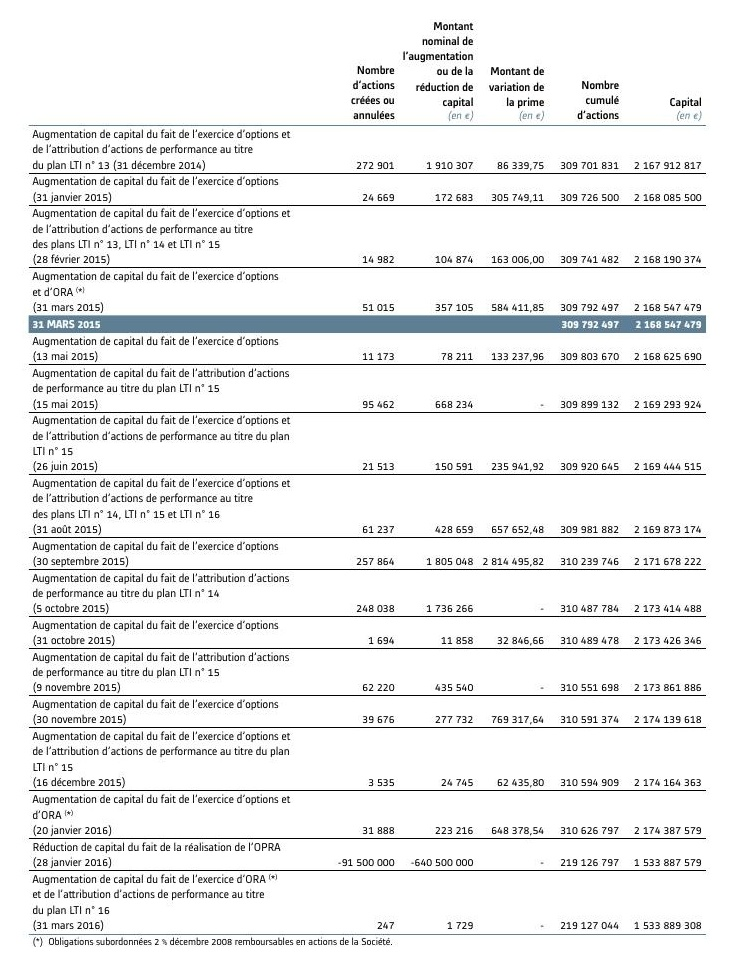table: (0, 0, 751, 964)
